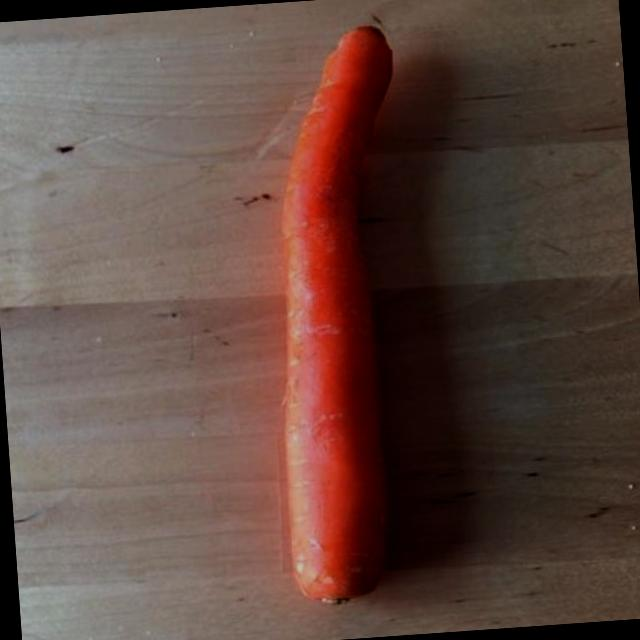Carrot: (231, 5, 457, 618)
